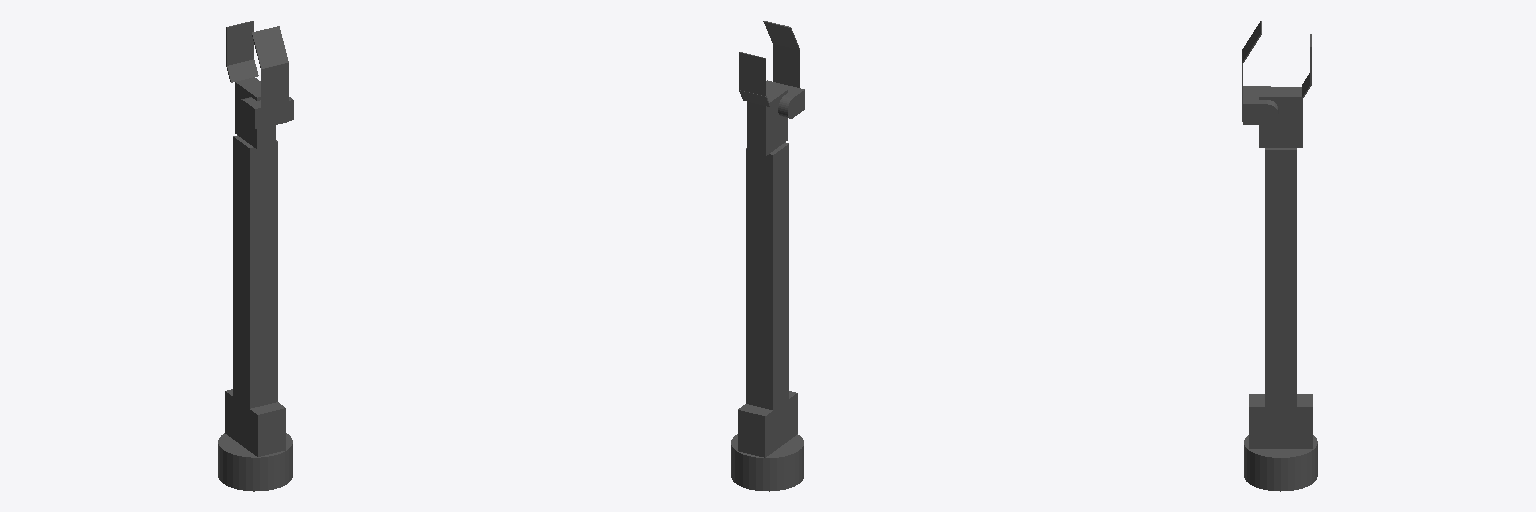
URDF robot description (dynamixel_arm):
<?xml version="1.0" ?>
<!-- =================================================================================== -->
<!-- |    This document was autogenerated by xacro from dynamixel_arm.urdf.xacro       | -->
<!-- |    EDITING THIS FILE BY HAND IS NOT RECOMMENDED                                 | -->
<!-- =================================================================================== -->
<robot name="dynamixel_arm" xmlns:xacro="http://ros.org/wiki/xacro">
  <!-- constants for robot dimentions -->
  <!-- inertial for box -->
  <!--xacro:macro 
		name="default_box_inertial" 
		params="mass depth width height x_offset y_offset z_offset">
		<inertial>
			<origin xyz="${x_offset} ${y_offset} ${z_offset}" rpy="0 0 0"/>
			<mass value="${mass}"/>
			<inertia 
				ixx="${1/12*mass*(width*width+height*height)}" ixy="0.0" ixz="0.0" 
				iyy="${1/12*mass*(height*height+depth*depth)}" iyz="0.0" 
				izz="${1/12*mass*(depth*depth+width*width)}"/>
		</inertial>
	</xacro:macro-->
  <!-- inertial for cylinder -->
  <!--xacro:macro 
		name="default_cylinder_inertial" 
		params="mass length radius x_offset y_offset z_offset">
		<inertial>
			<origin xyz="${x_offset} ${y_offset} ${z_offset}" rpy="0 0 0"/>
			<mass value="${mass}"/>
			<inertia 
				ixx="${1/12*mass*(3*radius*radius+length*length)}" ixy="0.0" ixz="0.0" 
				iyy="${1/12*mass*(3*radius*radius+length*length)}" iyz="0.0" 
				izz="${1/2*mass*radius*radius}"/>
		</inertial>
	</xacro:macro-->
  <!-- inertial for box -->
  <!-- inertial for cylinder -->
  <!-- import Rviz color -->
  <material name="white">
    <color rgba="1 1 1 1"/>
  </material>
  <material name="gray">
    <color rgba="0.4 0.4 0.4 1"/>
  </material>
  <material name="lightgray">
    <color rgba="0.45 0.45 0.45 1"/>
  </material>
  <material name="ivory">
    <color rgba="0.54 0.53 0.56 1"/>
  </material>
  <material name="darkgray">
    <color rgba="0.35 0.35 0.35 1"/>
  </material>
  <material name="black">
    <color rgba="0.2 0.2 0.2 1"/>
  </material>
  <material name="laser_black">
    <color rgba="0.1 0.1 0.1 0.0.6"/>
  </material>
  <!-- import Gazebo -->
  <gazebo>
    <plugin filename="libgazebo_ros_control.so" name="ros_contorl">
      <robotNamespace>/dynamixel_arm</robotNamespace>
    </plugin>
  </gazebo>
  <gazebo reference="arm_base_link">
    <material>Gazebo/Orange</material>
  </gazebo>
  <gazebo reference="link1">
    <material>Gazebo/Black</material>
  </gazebo>
  <gazebo reference="link2">
    <material>Gazebo/Orange</material>
  </gazebo>
  <gazebo reference="link3">
    <material>Gazebo/Black</material>
  </gazebo>
  <gazebo reference="link4">
    <material>Gazebo/Orange</material>
  </gazebo>
  <gazebo reference="link5">
    <material>Gazebo/Black</material>
  </gazebo>
  <gazebo reference="link6">
    <material>Gazebo/Orange</material>
  </gazebo>
  <link name="world"/>
  <joint name="fixed" type="fixed">
    <parent link="world"/>
    <child link="arm_base_link"/>
  </joint>
  <!-- Dynamixel Arm -->
  <!--joint name="arm_base_joint" type="fixed">
		<parent link="world"/>
		<child link="arm_base_link"/>
		<origin xyz="${0.720/2-0.040+0.10} 0 ${0.360/2}" rpy="${pi} 0 0"/>
	</joint-->
  <link name="arm_base_link">
    <visual>
      <geometry>
        <cylinder length="0.040" radius="0.040"/>
      </geometry>
      <origin rpy="0 0 0" xyz="0 0 0.02"/>
      <material name="gray"/>
    </visual>
    <collision>
      <geometry>
        <cylinder length="0.040" radius="0.040"/>
      </geometry>
      <origin rpy="0 0 0" xyz="0 0 0.02"/>
    </collision>
    <inertial>
      <origin rpy="0 0 0" xyz="0.0 0.0 -0.02"/>
      <mass value="0.1"/>
      <inertia ixx="1.0" ixy="0.0" ixz="0.0" iyy="1.0" iyz="0.0" izz="1.0"/>
    </inertial>
  </link>
  <joint name="joint1" type="revolute">
    <parent link="arm_base_link"/>
    <child link="link1"/>
    <origin rpy="0 0 0" xyz="0 0 0.04"/>
    <axis xyz="0 0 1"/>
    <limit effort="6.0" lower="-3.05432555556" upper="3.05432555556" velocity="5.75958533333"/>
  </joint>
  <link name="link1">
    <visual>
      <geometry>
        <box size="0.035 0.070 0.050"/>
      </geometry>
      <origin rpy="0 0 0" xyz="0 0 0.025"/>
      <material name="gray"/>
    </visual>
    <collision>
      <geometry>
        <box size="0.035 0.070 0.050"/>
      </geometry>
      <origin rpy="0 0 0" xyz="0 0 0.025"/>
    </collision>
    <inertial>
      <origin rpy="0 0 0" xyz="0.31 0.0 0.025"/>
      <mass value="0.1"/>
      <inertia ixx="1.0" ixy="0.0" ixz="0.0" iyy="1.0" iyz="0.0" izz="1.0"/>
    </inertial>
  </link>
  <joint name="joint2" type="revolute">
    <parent link="link1"/>
    <child link="link2"/>
    <origin rpy="0 0 0" xyz="0 0 0.05"/>
    <axis xyz="0 -1 0"/>
    <limit effort="12.0" lower="-1.65806244444" upper="1.65806244444" velocity="5.75958533333"/>
  </joint>
  <link name="link2">
    <visual>
      <geometry>
        <box size="0.035 0.035 0.150"/>
      </geometry>
      <origin rpy="0 0 0" xyz="0 0 0.075"/>
      <material name="gray"/>
    </visual>
    <collision>
      <geometry>
        <box size="0.035 0.035 0.150"/>
      </geometry>
      <origin rpy="0 0 0" xyz="0 0 0.075"/>
    </collision>
    <inertial>
      <origin rpy="0 0 0" xyz="0.0 0.0 0.15"/>
      <mass value="0.1"/>
      <inertia ixx="1.0" ixy="0.0" ixz="0.0" iyy="1.0" iyz="0.0" izz="1.0"/>
    </inertial>
  </link>
  <joint name="joint3" type="revolute">
    <parent link="link2"/>
    <child link="link3"/>
    <origin rpy="0 0 0" xyz="0 0 0.150"/>
    <axis xyz="0 -1 0"/>
    <limit effort="6.0" lower="-2.61799333333" upper="0.174532888889" velocity="5.75958533333"/>
  </joint>
  <link name="link3">
    <visual>
      <geometry>
        <box size="0.035 0.035 0.060"/>
      </geometry>
      <origin rpy="0 0 0" xyz="0 0 0.03"/>
      <material name="gray"/>
    </visual>
    <collision>
      <geometry>
        <box size="0.035 0.035 0.060"/>
      </geometry>
      <origin rpy="0 0 0" xyz="0 0 0.03"/>
    </collision>
    <inertial>
      <origin rpy="0 0 0" xyz="0.0 0.0 0.06"/>
      <mass value="0.1"/>
      <inertia ixx="1.0" ixy="0.0" ixz="0.0" iyy="1.0" iyz="0.0" izz="1.0"/>
    </inertial>
  </link>
  <joint name="joint4" type="revolute">
    <parent link="link3"/>
    <child link="link4"/>
    <origin rpy="0 0 0" xyz="0 0 0.06"/>
    <axis xyz="0 0 1"/>
    <limit effort="6.0" lower="-3.05432555556" upper="3.05432555556" velocity="5.75958533333"/>
  </joint>
  <link name="link4">
    <visual>
      <geometry>
        <box size="0.035 0.035 0.0975"/>
      </geometry>
      <origin rpy="0 0 0" xyz="0 0 0.04875"/>
      <material name="gray"/>
    </visual>
    <collision>
      <geometry>
        <box size="0.035 0.035 0.0975"/>
      </geometry>
      <origin rpy="0 0 0" xyz="0 0 0.04875"/>
    </collision>
    <inertial>
      <origin rpy="0 0 0" xyz="0.0 0.0 0.04875"/>
      <mass value="0.1"/>
      <inertia ixx="1.0" ixy="0.0" ixz="0.0" iyy="1.0" iyz="0.0" izz="1.0"/>
    </inertial>
  </link>
  <joint name="joint5" type="revolute">
    <parent link="link4"/>
    <child link="link5"/>
    <origin rpy="0 0 0" xyz="0 0 0.0975"/>
    <axis xyz="0 -1 0"/>
    <limit effort="6.0" lower="-1.65806244444" upper="1.65806244444" velocity="5.75958533333"/>
  </joint>
  <link name="link5">
    <visual>
      <origin rpy="0 0 0" xyz="0 0 0.0305"/>
      <geometry>
        <box size="0.024 0.0475 0.061"/>
      </geometry>
      <material name="gray"/>
    </visual>
    <collision>
      <origin rpy="0 0 0" xyz="0 0 0.0305"/>
      <geometry>
        <box size="0.024 0.0475 0.061"/>
      </geometry>
    </collision>
    <visual>
      <origin rpy="-0.52359878 0 0" xyz="0 0.02795 0.068727241"/>
      <geometry>
        <box size="0.034 0.0014 0.019"/>
      </geometry>
      <material name="gray"/>
    </visual>
    <collision>
      <origin rpy="-0.52359878 0 0" xyz="0 0.02795 0.068727241"/>
      <geometry>
        <box size="0.034 0.0014 0.019"/>
      </geometry>
    </collision>
    <visual>
      <origin rpy="0 0 0" xyz="0 0.0327 0.09965"/>
      <geometry>
        <box size="0.034 0.0014 0.0454"/>
      </geometry>
      <material name="gray"/>
    </visual>
    <collision>
      <origin rpy="0 0 0" xyz="0 0.0327 0.09965"/>
      <geometry>
        <box size="0.034 0.0014 0.0454"/>
      </geometry>
    </collision>
    <inertial>
      <origin rpy="0 0 0" xyz="0.0 0.0 0.0305"/>
      <mass value="0.1"/>
      <inertia ixx="1.0" ixy="0.0" ixz="0.0" iyy="1.0" iyz="0.0" izz="1.0"/>
    </inertial>
  </link>
  <joint name="joint6" type="revolute">
    <parent link="link5"/>
    <child link="link6"/>
    <origin rpy="0 0 0" xyz="0 -0.0145 0.045"/>
    <axis xyz="-1 0 0"/>
    <limit effort="6.0" lower="-0.698131555556" upper="0.349065777778" velocity="5.75958533333"/>
  </joint>
  <link name="link6">
    <visual>
      <origin rpy="0 1.57079632675 0" xyz="0 0 0"/>
      <geometry>
        <cylinder length="0.0475" radius="0.012"/>
      </geometry>
      <material name="gray"/>
    </visual>
    <collision>
      <origin rpy="0 1.57079632675 0" xyz="0 0 0"/>
      <geometry>
        <cylinder length="0.0475" radius="0.012"/>
      </geometry>
    </collision>
    <visual>
      <origin rpy="0 0 0" xyz="0 -0.013 0"/>
      <geometry>
        <box size="0.0475 0.026 0.024"/>
      </geometry>
      <material name="gray"/>
    </visual>
    <collision>
      <origin rpy="0 0 0" xyz="0 -0.013 0"/>
      <geometry>
        <box size="0.0475 0.026 0.024"/>
      </geometry>
    </collision>
    <visual>
      <origin rpy="0 0 0" xyz="0 -0.0267 0.023"/>
      <geometry>
        <box size="0.034 0.0014 0.070"/>
      </geometry>
      <material name="gray"/>
    </visual>
    <collision>
      <origin rpy="0 0 0" xyz="0 -0.0267 0.023"/>
      <geometry>
        <box size="0.034 0.0014 0.070"/>
      </geometry>
    </collision>
    <visual>
      <origin rpy="-0.52359878 0 0" xyz="0 -0.0166252378 0.07545"/>
      <geometry>
        <box size="0.034 0.0014 0.040299"/>
      </geometry>
      <material name="gray"/>
    </visual>
    <collision>
      <origin rpy="-0.52359878 0 0" xyz="0 -0.0166252378 0.07545"/>
      <geometry>
        <box size="0.034 0.0014 0.040299"/>
      </geometry>
    </collision>
    <inertial>
      <origin rpy="0 0 0" xyz="0.0 0.0 0.0"/>
      <mass value="0.1"/>
      <inertia ixx="1.0" ixy="0.0" ixz="0.0" iyy="1.0" iyz="0.0" izz="1.0"/>
    </inertial>
  </link>
  <!-- transmission for Dynamixel Arm-->
  <transmission name="tran1">
    <type>transmission_interface/SimpleTransmission</type>
    <joint name="joint1">
      <hardwareInterface>EffortJointInterface</hardwareInterface>
    </joint>
    <actuator name="motor1">
      <hardwareInterface>EffortJointInterface</hardwareInterface>
      <mechanicalReduction>1</mechanicalReduction>
    </actuator>
  </transmission>
  <transmission name="tran2">
    <type>transmission_interface/SimpleTransmission</type>
    <joint name="joint2">
      <hardwareInterface>PositionJointInterface</hardwareInterface>
    </joint>
    <actuator name="motor2">
      <hardwareInterface>PositionJointInterface</hardwareInterface>
      <mechanicalReduction>1</mechanicalReduction>
    </actuator>
  </transmission>
  <transmission name="tran3">
    <type>transmission_interface/SimpleTransmission</type>
    <joint name="joint3">
      <hardwareInterface>PositionJointInterface</hardwareInterface>
    </joint>
    <actuator name="motor3">
      <hardwareInterface>PositionJointInterface</hardwareInterface>
      <mechanicalReduction>1</mechanicalReduction>
    </actuator>
  </transmission>
  <transmission name="tran4">
    <type>transmission_interface/SimpleTransmission</type>
    <joint name="joint4">
      <hardwareInterface>PositionJointInterface</hardwareInterface>
    </joint>
    <actuator name="motor4">
      <hardwareInterface>PositionJointInterface</hardwareInterface>
      <mechanicalReduction>1</mechanicalReduction>
    </actuator>
  </transmission>
  <transmission name="tran5">
    <type>transmission_interface/SimpleTransmission</type>
    <joint name="joint5">
      <hardwareInterface>PositionJointInterface</hardwareInterface>
    </joint>
    <actuator name="motor5">
      <hardwareInterface>PositionJointInterface</hardwareInterface>
      <mechanicalReduction>1</mechanicalReduction>
    </actuator>
  </transmission>
  <transmission name="tran6">
    <type>transmission_interface/SimpleTransmission</type>
    <joint name="joint6">
      <hardwareInterface>PositionJointInterface</hardwareInterface>
    </joint>
    <actuator name="motor6">
      <hardwareInterface>PositionJointInterface</hardwareInterface>
      <mechanicalReduction>1</mechanicalReduction>
    </actuator>
  </transmission>
</robot>

--- What the picture shows (computed from the rendered views, not written in the file) ---
The picture shows the robot from 3 angles, left to right: view 1: azimuth 30°, elevation 25°; view 2: azimuth 150°, elevation 25°; view 3: azimuth 270°, elevation 25°; orthographic projection.
Robot: dynamixel_arm — 8 links, 7 joints (6 revolute, 1 fixed); root link world; default pose: all joints at 0.
Visible links, largest first — view 1: link2, link4, link6, arm_base_link, link5, link1, link3; view 2: link2, link4, link5, arm_base_link, link1, link6, link3; view 3: link2, link1, arm_base_link, link4, link5, link3, link6.
Link boxes in pixels (x1=…): link2: x1=233, y1=270, x2=277, y2=408; link4: x1=233, y1=135, x2=277, y2=230; link6: x1=238, y1=26, x2=293, y2=128; arm_base_link: x1=218, y1=433, x2=292, y2=491; link5: x1=226, y1=21, x2=275, y2=148; link1: x1=225, y1=389, x2=285, y2=456; link3: x1=233, y1=219, x2=277, y2=281; link2: x1=746, y1=275, x2=788, y2=410; link4: x1=746, y1=142, x2=788, y2=235; link5: x1=739, y1=52, x2=787, y2=155; arm_base_link: x1=731, y1=434, x2=803, y2=491; link1: x1=738, y1=391, x2=797, y2=457; link6: x1=763, y1=21, x2=804, y2=118; link3: x1=746, y1=225, x2=788, y2=285; link2: x1=1265, y1=282, x2=1296, y2=406; link1: x1=1249, y1=394, x2=1312, y2=448; arm_base_link: x1=1244, y1=435, x2=1317, y2=491; link4: x1=1265, y1=148, x2=1296, y2=230; link5: x1=1259, y1=34, x2=1311, y2=147; link3: x1=1265, y1=231, x2=1296, y2=281; link6: x1=1242, y1=21, x2=1278, y2=124.
Size in the robot's own frame: 0.08 by 0.0819 by 0.5357 metres.
Geometry: primitives only (box / cylinder / sphere), no mesh files.